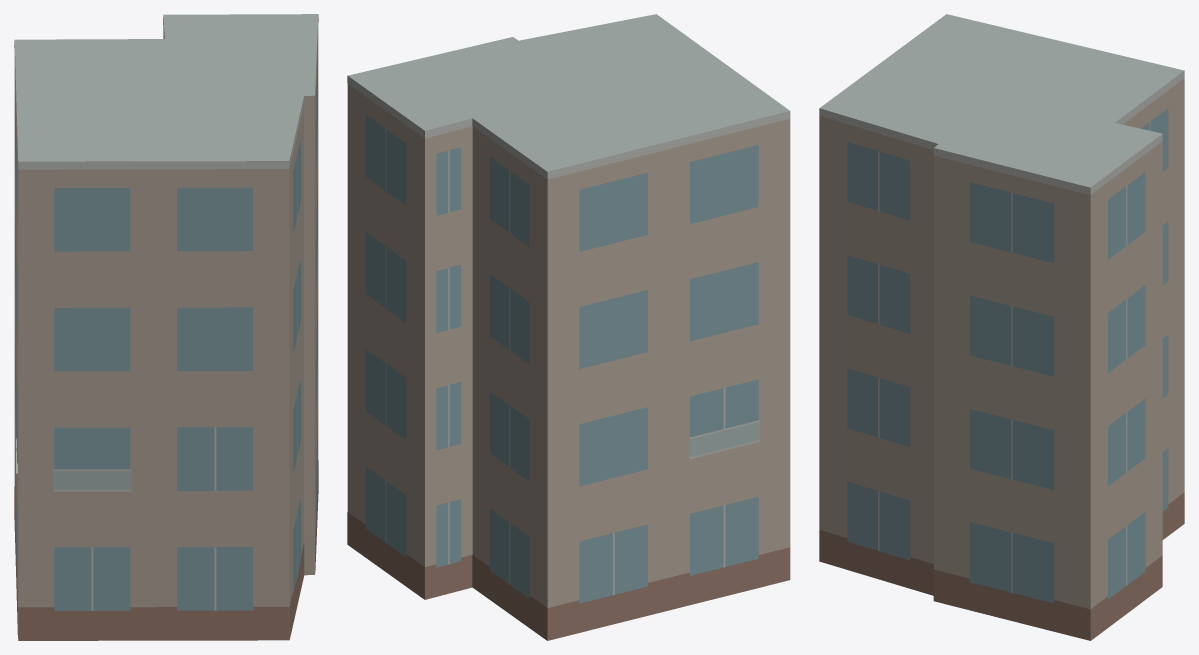
File: survey-upis-32780986.glb
3 renders of one model, left to right at view 1: azimuth 30°, elevation 25°; view 2: azimuth 150°, elevation 25°; view 3: azimuth 270°, elevation 25°, orthographic. The views are drawn at different scales.
Visible parts, largest first — view 1: survey-upis-32780986.tmp; view 2: survey-upis-32780986.tmp; view 3: survey-upis-32780986.tmp.
Part boxes in pixels (x1,y1,x2,y2): survey-upis-32780986.tmp: (14, 14, 318, 640); survey-upis-32780986.tmp: (347, 14, 790, 640); survey-upis-32780986.tmp: (819, 14, 1184, 640).
Size of the model in its own units: 12.05 by 14.65 by 10.71.
